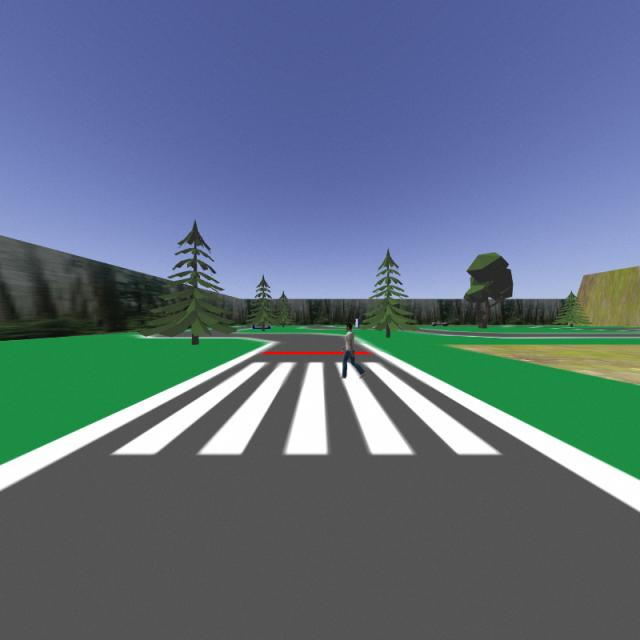pedestrian: (335, 321, 370, 382)
